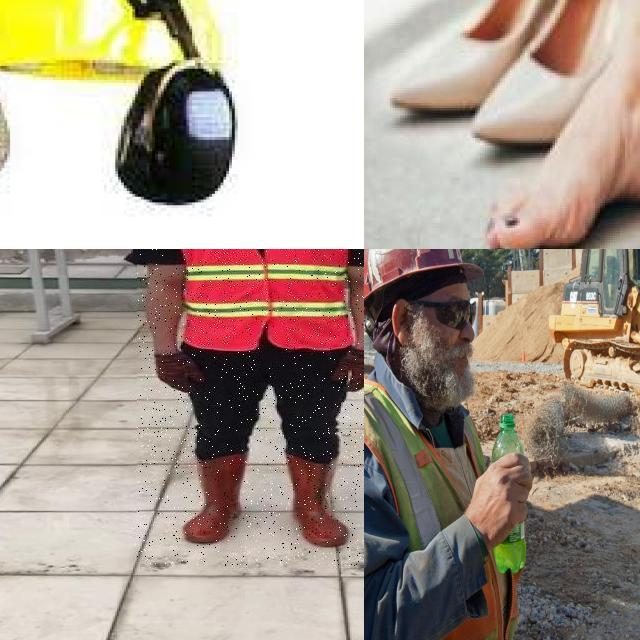Barefoots: (473, 0, 640, 249)
Ear-protection: (0, 48, 251, 199)
boots: (179, 450, 249, 546), (289, 458, 352, 548)
face_nomask: (409, 282, 476, 413)
glasses: (431, 294, 476, 332)
hand_noglove: (465, 449, 534, 554)
head_helmet: (364, 249, 484, 298)
person: (137, 249, 364, 566), (364, 249, 524, 640)
vest: (364, 375, 525, 640), (175, 249, 353, 350)
